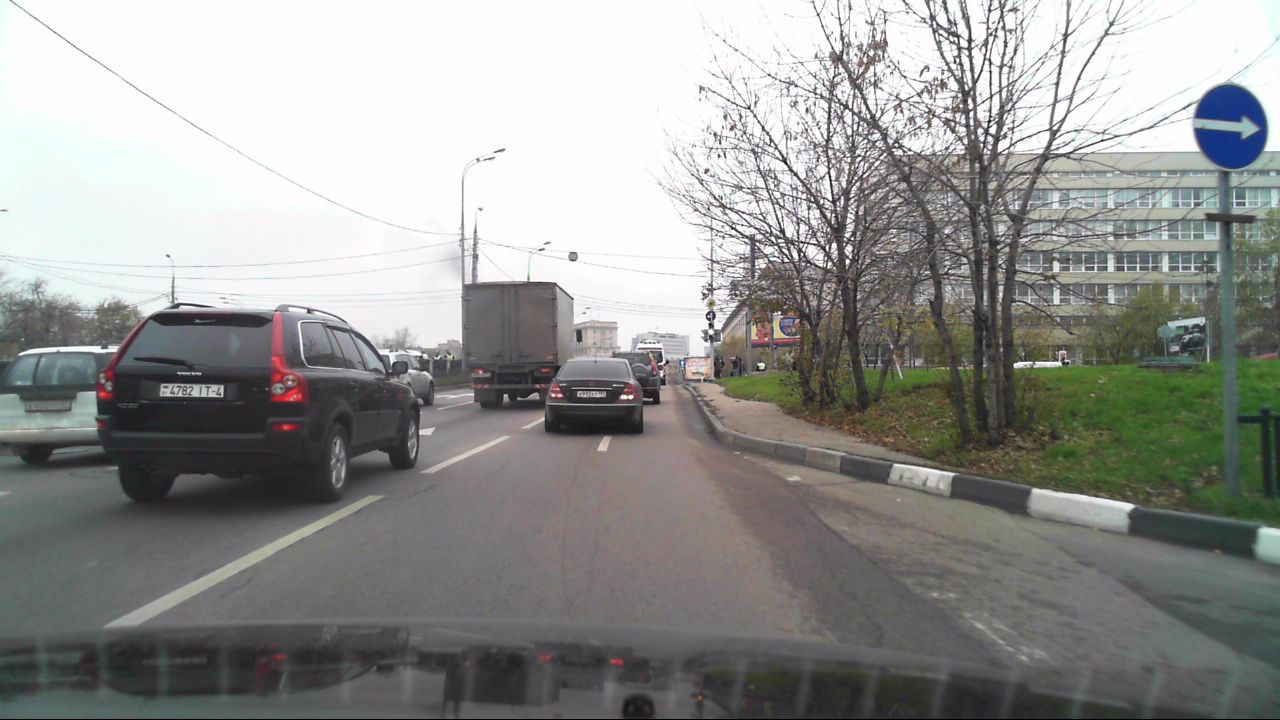Turn Right: (1192, 82, 1269, 170)
